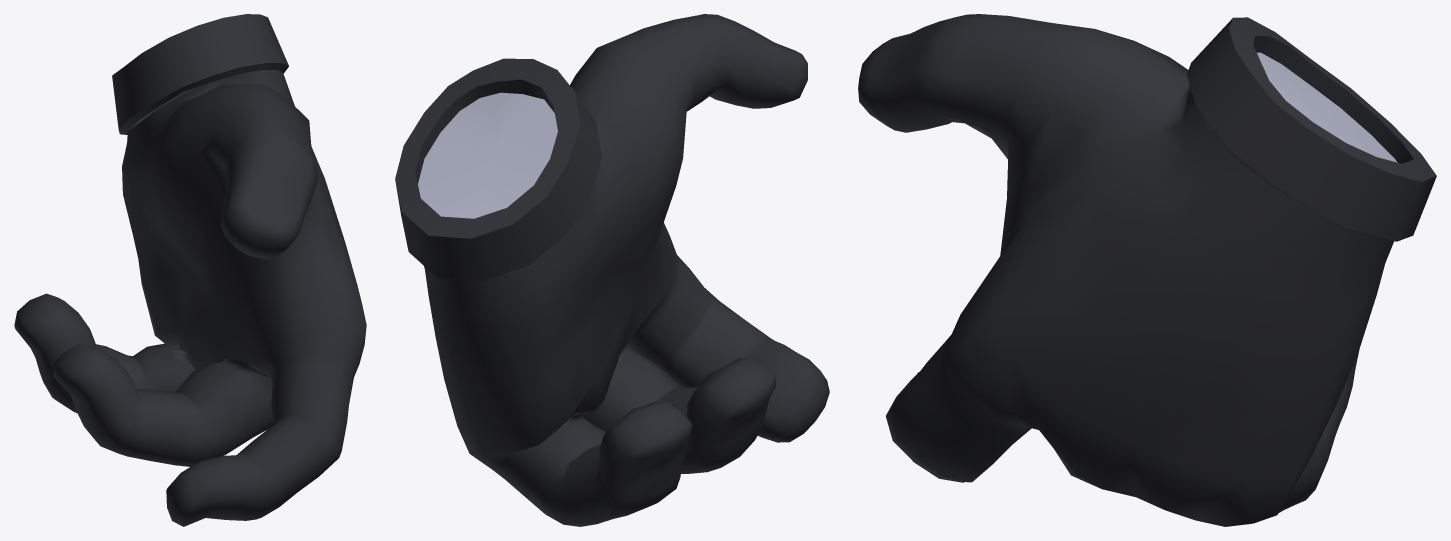
File: hand_basic_trigger_left.fbx
3 renders of one model, left to right at view 1: azimuth 30°, elevation 25°; view 2: azimuth 150°, elevation 25°; view 3: azimuth 270°, elevation 25°, orthographic. The views are drawn at different scales.
Visible parts, largest first — view 1: triggerhand; view 2: triggerhand; view 3: triggerhand.
Boxes of the visible parts, x1,y1,x2,y2 form: triggerhand: (14,14,366,526); triggerhand: (395,14,829,526); triggerhand: (858,14,1436,526).
Bounding box in the file's own units: 6.59 × 9.36 × 9.64.
